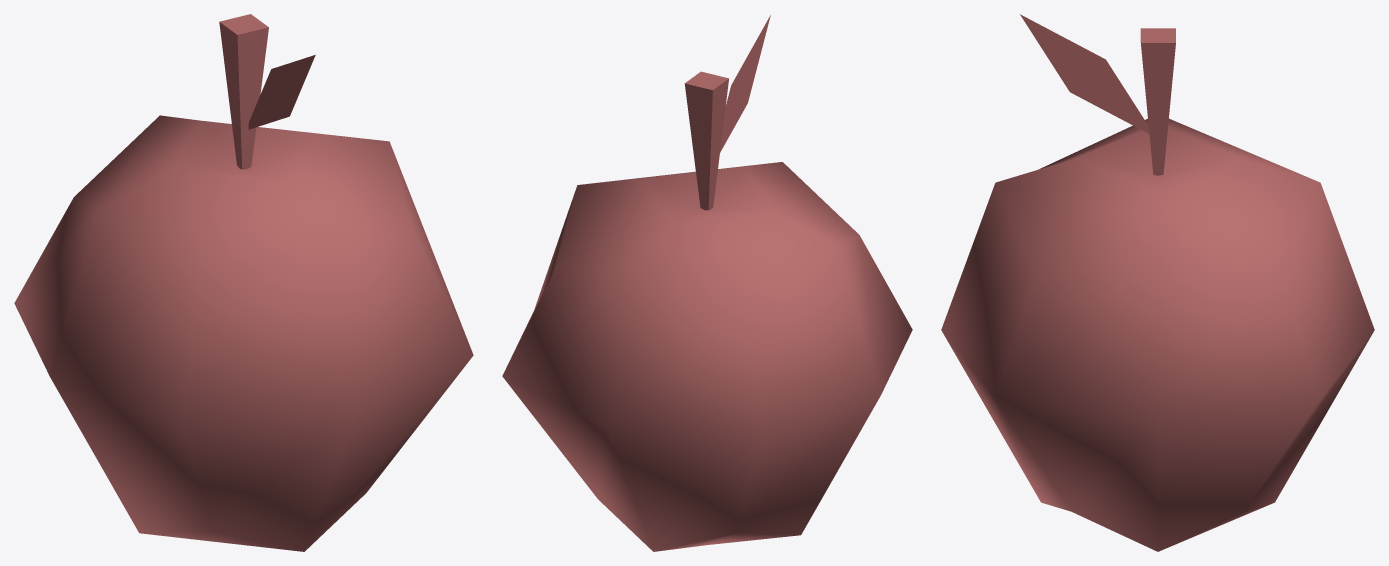
File: Apple_1.fbx
The picture shows the model from 3 angles, left to right: view 1: azimuth 30°, elevation 25°; view 2: azimuth 150°, elevation 25°; view 3: azimuth 270°, elevation 25°; orthographic projection. The views are drawn at different scales.
Visible parts, largest first — view 1: Apple_1; view 2: Apple_1; view 3: Apple_1.
Boxes of the visible parts, x1=… form: Apple_1: x1=14, y1=14, x2=473, y2=551; Apple_1: x1=502, y1=15, x2=912, y2=551; Apple_1: x1=941, y1=14, x2=1374, y2=551.
Bounding box in the file's own units: 47.68 × 63.58 × 47.68.
